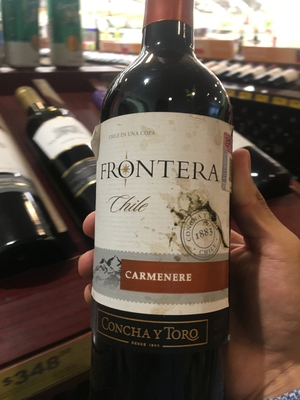frontera carmenere: (94, 10, 235, 396)
